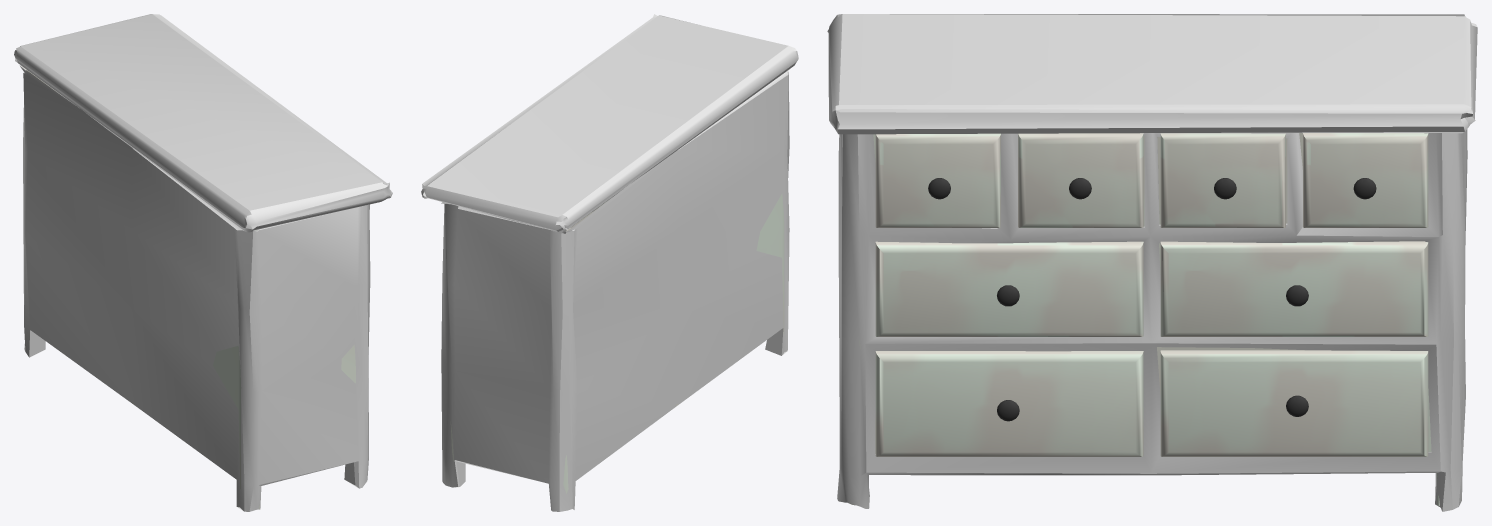
The model's file is Dresser.fbx.
The picture shows the model from 3 angles, left to right: view 1: azimuth 30°, elevation 25°; view 2: azimuth 150°, elevation 25°; view 3: azimuth 270°, elevation 25°; orthographic projection. The views are drawn at different scales.
Parts seen in each view (by area): view 1: dresser_body; view 2: dresser_body; view 3: dresser_body, bottom_right_drawer, bottom_left_drawer, middle_right_drawer, middle_left_drawer, top_middle_left_drawer, top_middle_right_drawer, top_right_drawer, top_left_drawer.
Part boxes in pixels (x1,y1,x2,y2): dresser_body: [14, 14, 392, 511]; dresser_body: [421, 14, 798, 511]; dresser_body: [827, 14, 1477, 511]; bottom_right_drawer: [1160, 350, 1428, 456]; bottom_left_drawer: [875, 351, 1143, 456]; middle_right_drawer: [1160, 241, 1428, 336]; middle_left_drawer: [875, 241, 1143, 336]; top_middle_left_drawer: [1018, 133, 1143, 227]; top_middle_right_drawer: [1160, 133, 1285, 227]; top_right_drawer: [1303, 133, 1428, 227]; top_left_drawer: [875, 133, 1000, 227].
Size of the model in its own units: 2.08 by 4.06 by 5.75.
4 materials, 1 textured.
